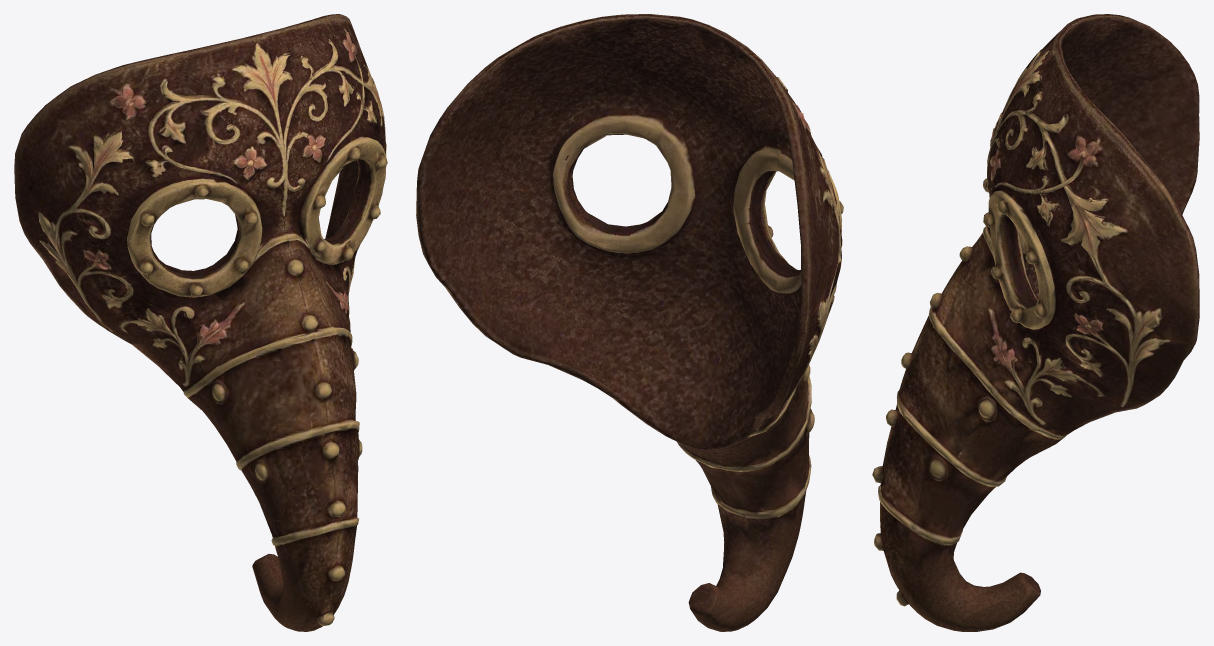
The picture shows the model from 3 angles, left to right: view 1: azimuth 30°, elevation 25°; view 2: azimuth 150°, elevation 25°; view 3: azimuth 270°, elevation 25°; orthographic projection. The views are drawn at different scales.
Size of the model in its own units: 1.22 by 1.9 by 0.9662.
1 material, 1 textured.
